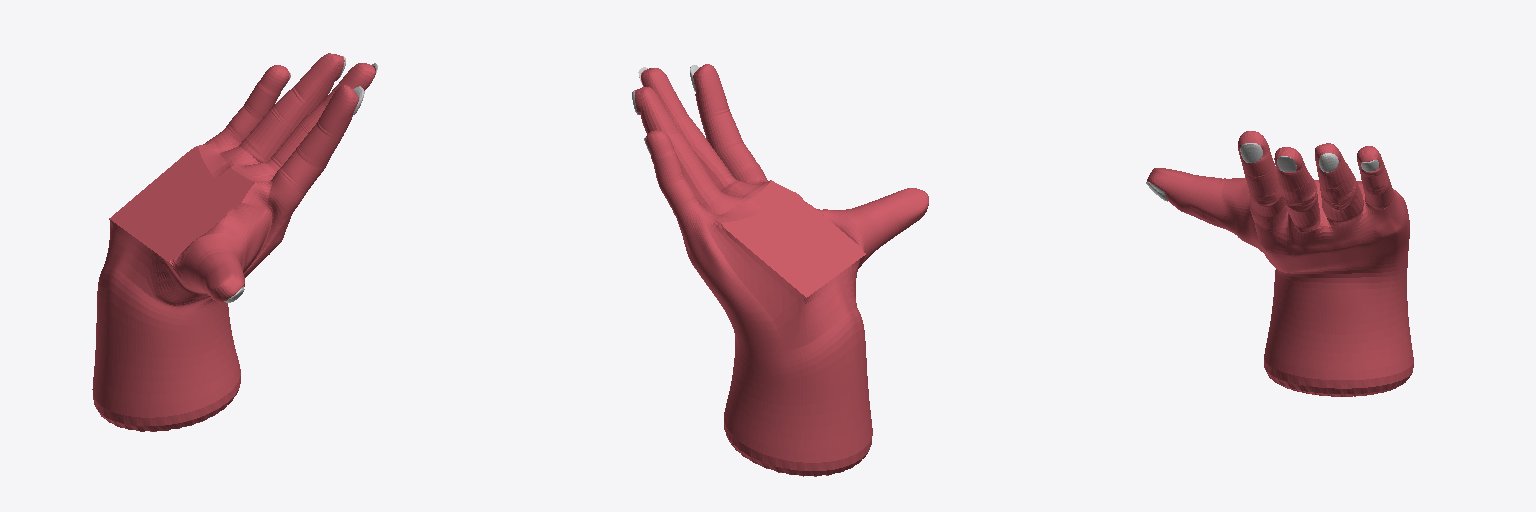
File: HandHolder.obj
The picture shows the model from 3 angles: view 1: azimuth 30°, elevation 25°; view 2: azimuth 150°, elevation 25°; view 3: azimuth 270°, elevation 25°; orthographic projection.
Parts seen in each view (by area): view 1: Cylinder; view 2: Cylinder; view 3: Cylinder.
Part boxes in pixels (left/top/right/bottom): Cylinder: left=92, top=53, right=377, bottom=431; Cylinder: left=632, top=64, right=928, bottom=476; Cylinder: left=1146, top=131, right=1413, bottom=396.
Size of the model in its own units: 2.34 by 2.93 by 2.19.